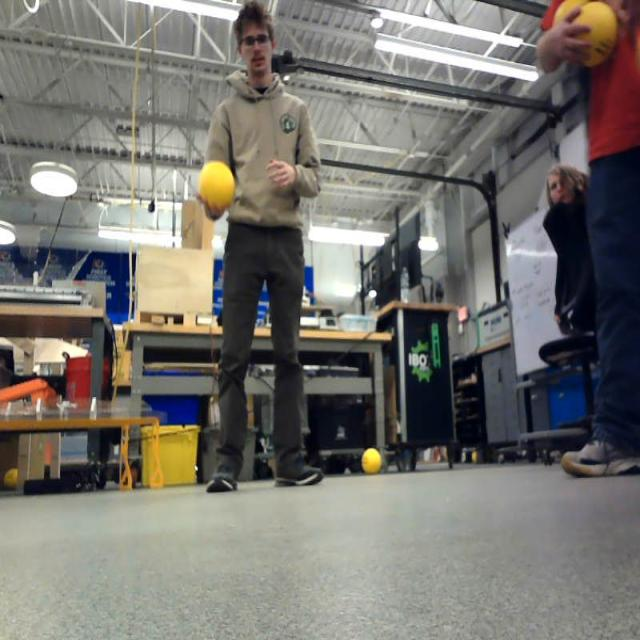Fuel: (572, 1, 616, 65), (199, 161, 234, 210), (363, 449, 381, 473), (4, 468, 20, 489)
